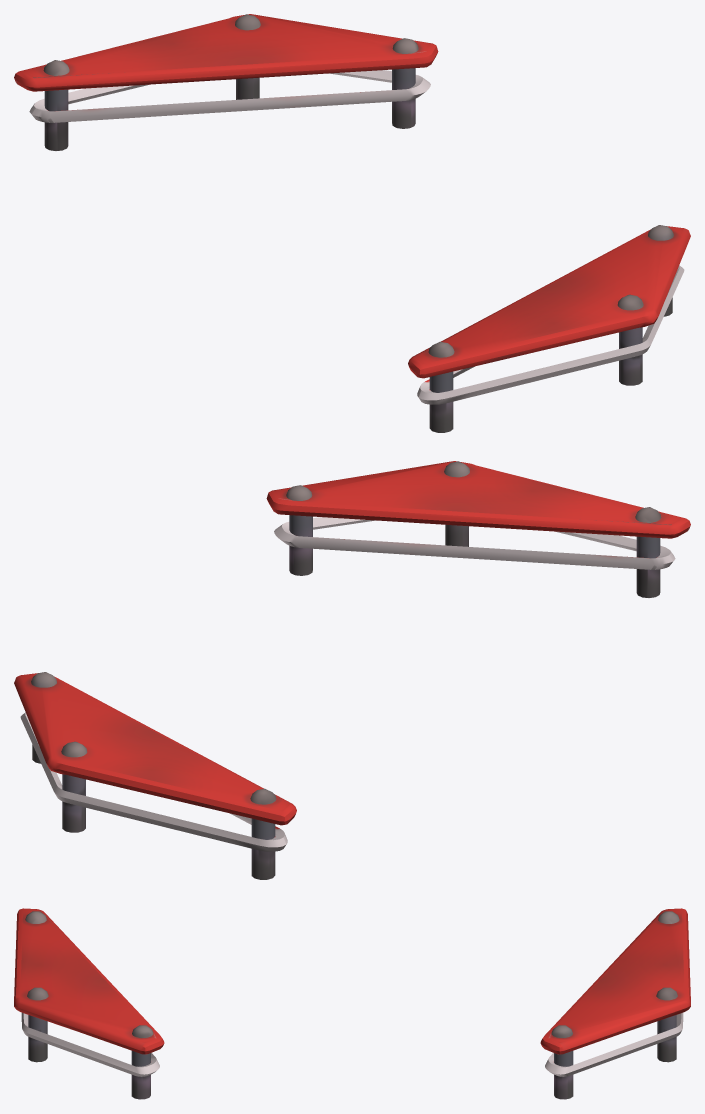
File: bumper.obj
3 views of the same model, one above another, from view 1: azimuth 30°, elevation 25°; view 2: azimuth 150°, elevation 25°; view 3: azimuth 270°, elevation 25° (orthographic). The views are drawn at different scales.
Visible parts, largest first — view 1: Cube.015_Cube.002; view 2: Cube.015_Cube.002; view 3: Cube.015_Cube.002.
Boxes of the visible parts, x1=… form: Cube.015_Cube.002: x1=14, y1=14, x2=690, y2=432; Cube.015_Cube.002: x1=14, y1=461, x2=690, y2=879; Cube.015_Cube.002: x1=14, y1=908, x2=690, y2=1099.
Bounding box in the file's own units: 12.3 × 2.86 × 25.18.
